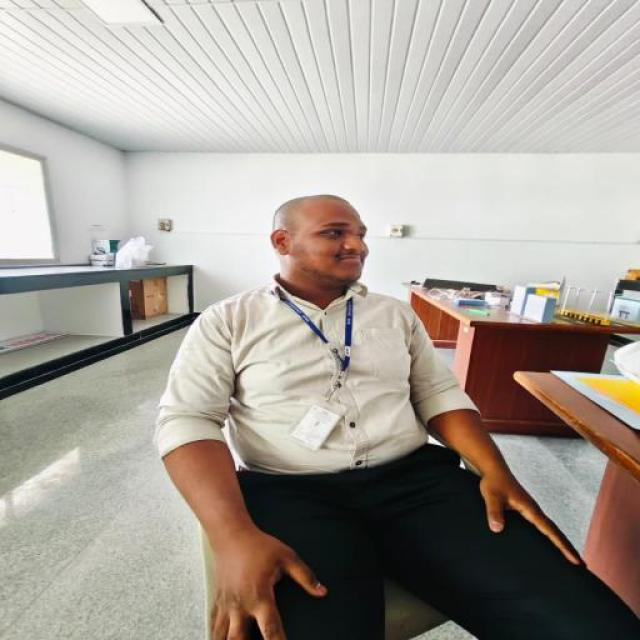Card: (290, 403, 344, 451)
Id strap: (335, 298, 352, 371)
